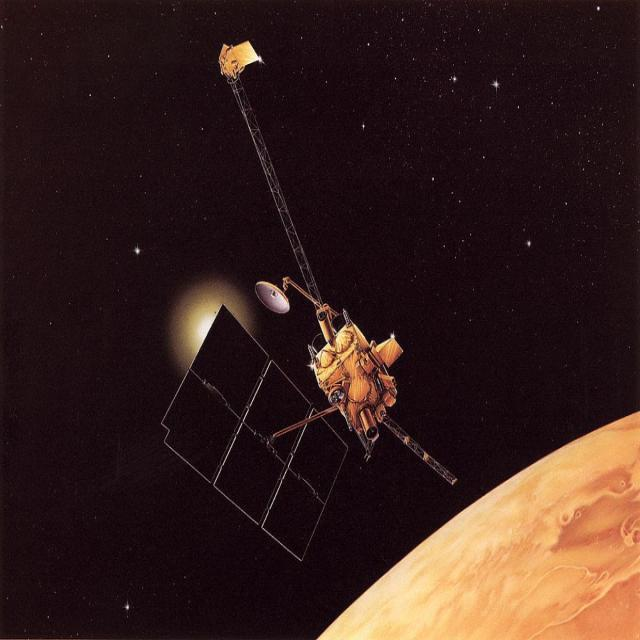sat: (148, 32, 466, 588)
